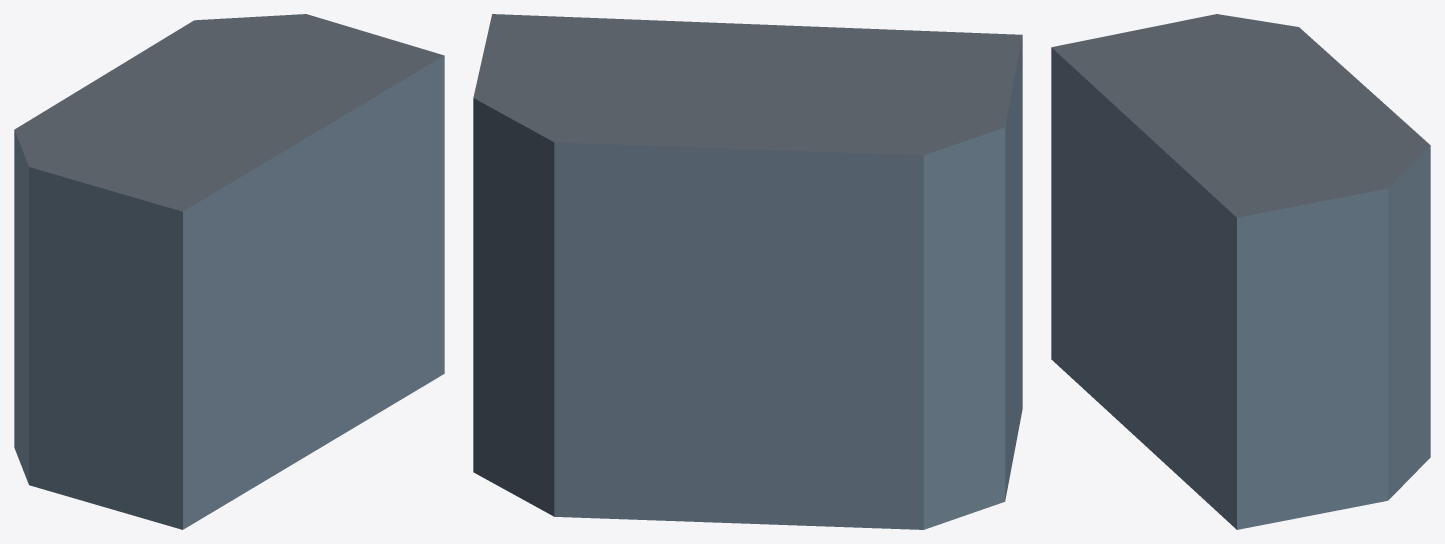
3 renders of one model, left to right at view 1: azimuth 30°, elevation 25°; view 2: azimuth 150°, elevation 25°; view 3: azimuth 270°, elevation 25°, orthographic. The views are drawn at different scales.
Parts seen in each view (by area): view 1: HP-w160821061; view 2: HP-w160821061; view 3: HP-w160821061.
Part boxes in pixels (bbox=[...]): HP-w160821061: bbox=[14, 14, 444, 529]; HP-w160821061: bbox=[473, 14, 1022, 529]; HP-w160821061: bbox=[1051, 14, 1430, 529].
Bounding box in the file's own units: 63 × 45 × 49.54.
